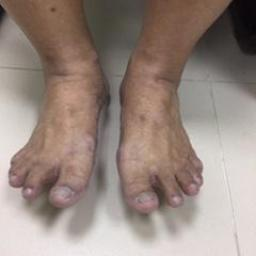Front View -Both Feet-: (4, 37, 214, 224)
